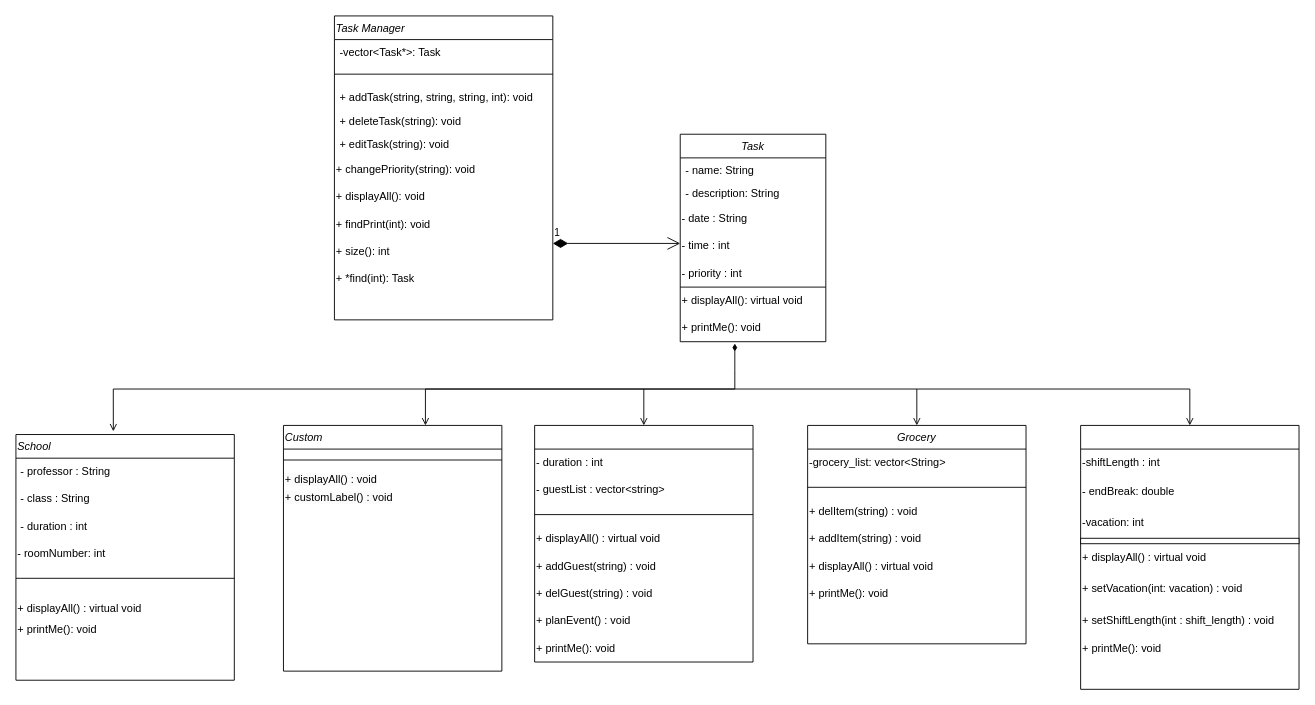
This 1315x705 diagram has some shape labels left out. The shapes that lost their labels are listed below. From the top down, each one's box as (x1, y1, x2, y2) in pixels, then its label:
(534, 425, 753, 662): Social
(1080, 425, 1299, 689): Work
